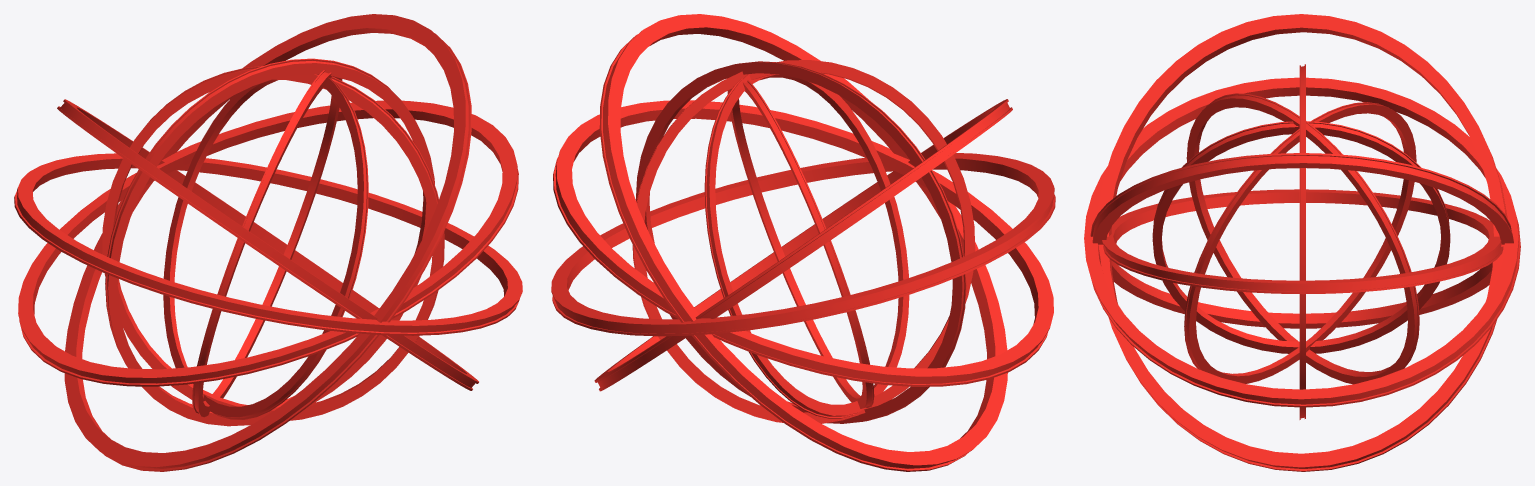
The model's file is Esfera.fbx.
3 views of the same model, side by side, from view 1: azimuth 30°, elevation 25°; view 2: azimuth 150°, elevation 25°; view 3: azimuth 270°, elevation 25° (orthographic). The views are drawn at different scales.
Parts seen in each view (by area): view 1: BézierCircle.003; view 2: BézierCircle.003; view 3: BézierCircle.003.
Boxes of the visible parts, box(x1,y1,x2,y2) form: BézierCircle.003: box(14, 14, 522, 471); BézierCircle.003: box(551, 14, 1055, 471); BézierCircle.003: box(1084, 14, 1520, 471).
Size of the model in its own units: 410 by 306 by 370.
